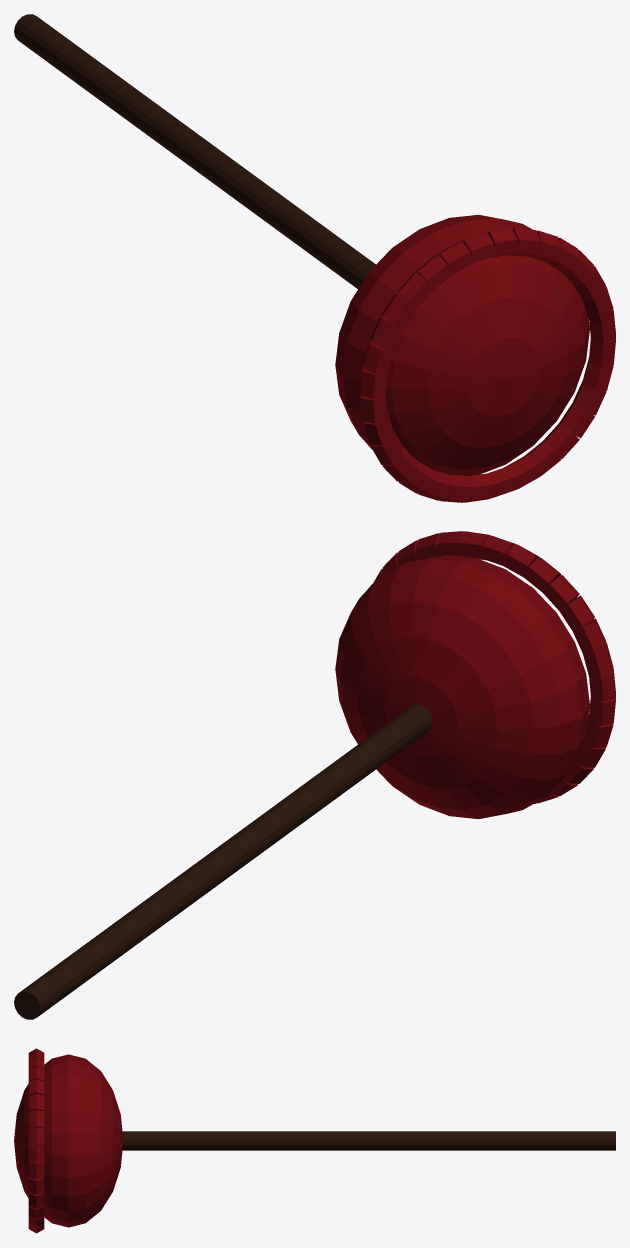
File: Plunger.obj
3 renders of one model, top to bottom at view 1: azimuth 30°, elevation 25°; view 2: azimuth 150°, elevation 25°; view 3: azimuth 270°, elevation 25°, orthographic. The views are drawn at different scales.
Visible parts, largest first — view 1: Plunger; view 2: Plunger; view 3: Plunger.
Boxes of the visible parts, x1=… form: Plunger: x1=14, y1=14, x2=615, y2=502; Plunger: x1=14, y1=531, x2=615, y2=1019; Plunger: x1=14, y1=1048, x2=615, y2=1233.
Bounding box in the file's own units: 28.79 × 28.79 × 93.5.
